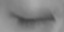LeftEyeFatigue: (10, 4, 61, 32)
